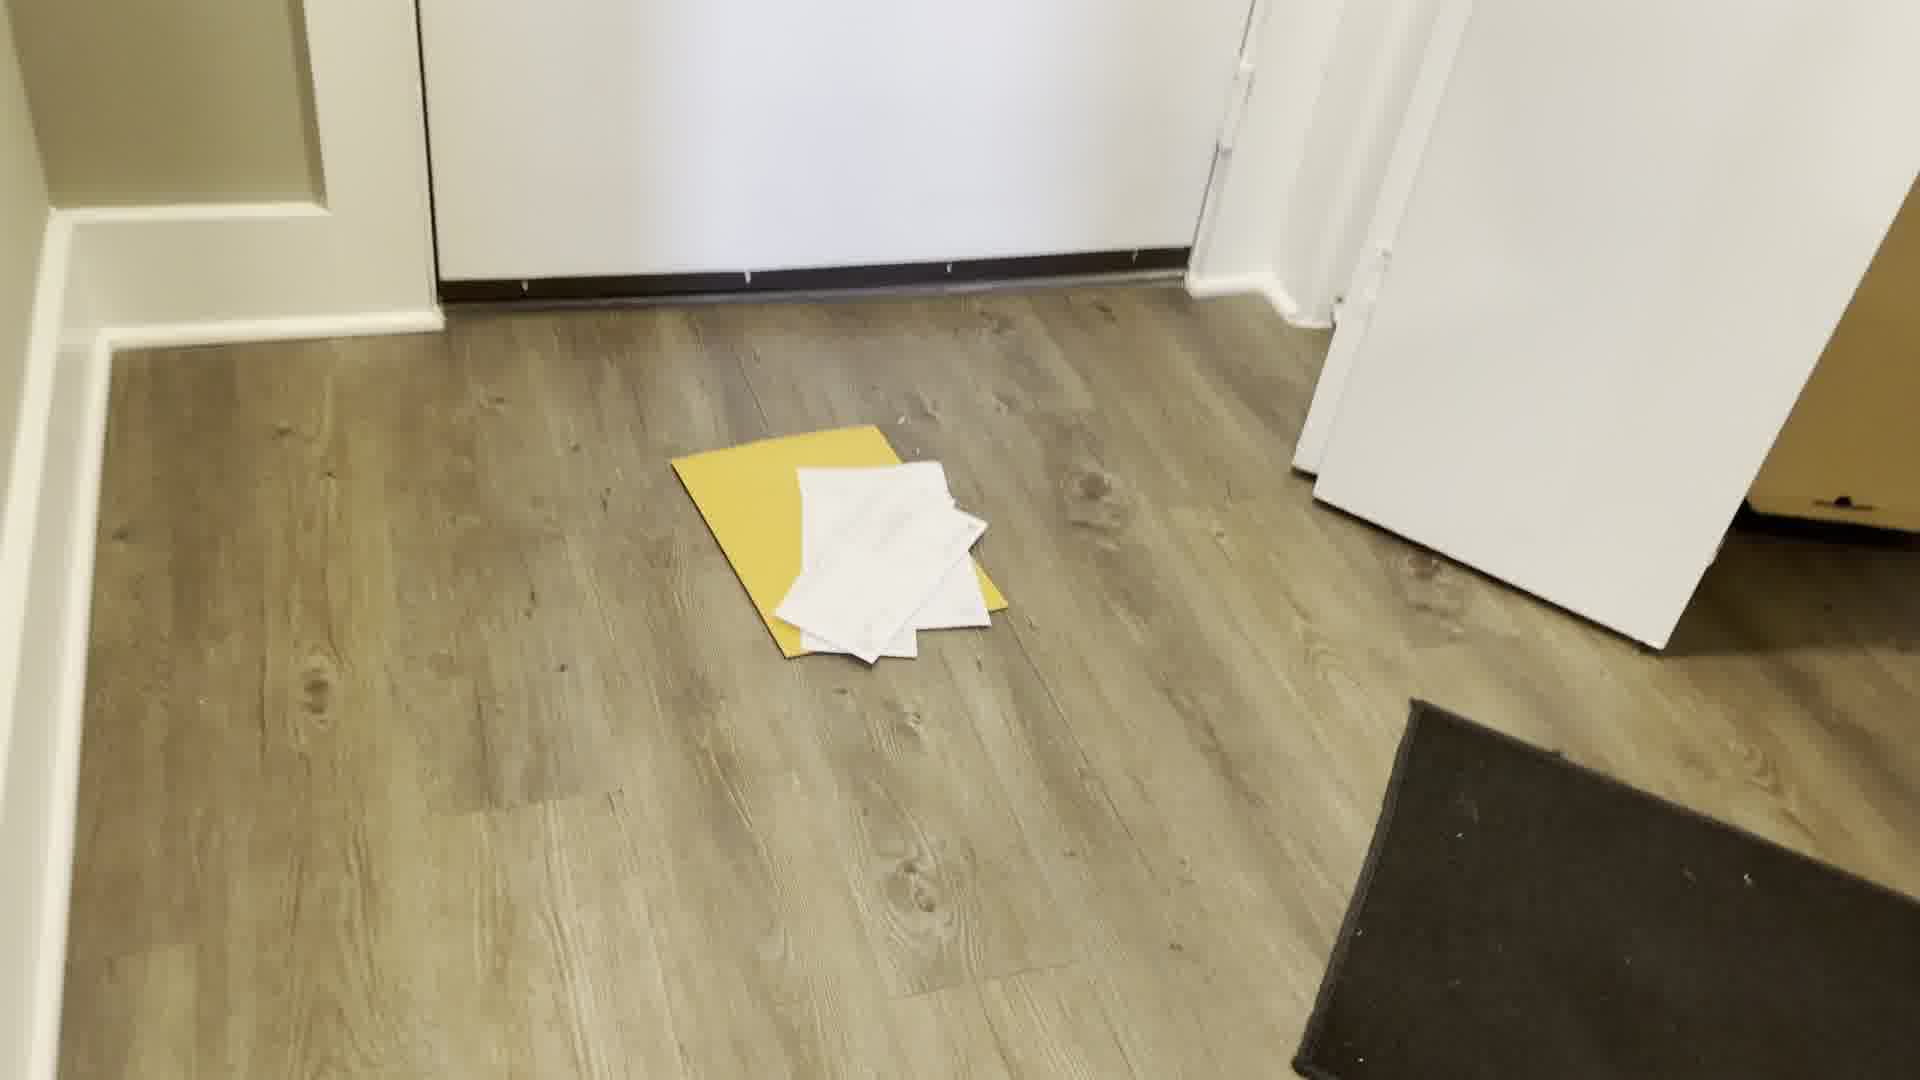envelope: (661, 411, 1019, 666), (785, 460, 982, 659)
